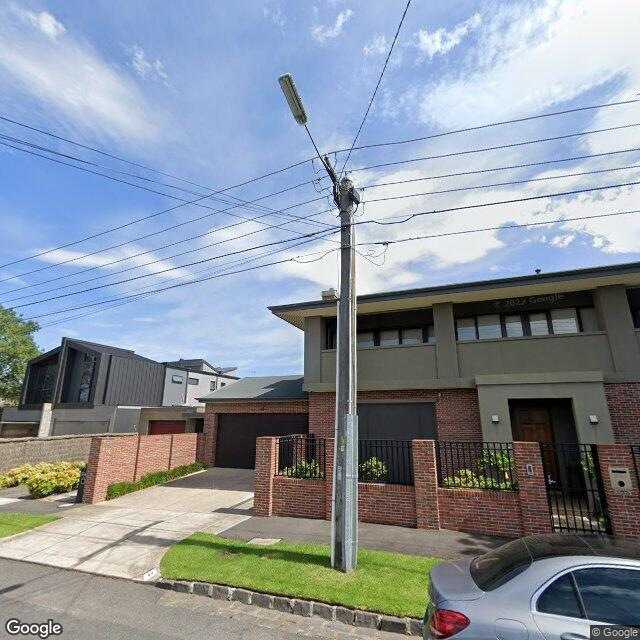crossarm: (323, 157, 341, 188)
streetlight: (278, 73, 338, 184)
timber-pole: (331, 179, 358, 571)
